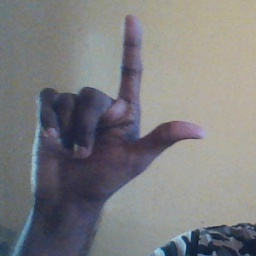L: (30, 14, 207, 201)
